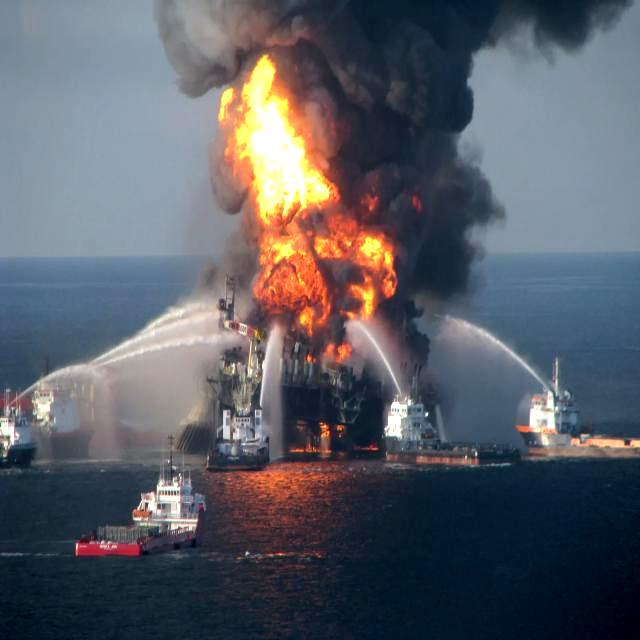fire: (220, 48, 396, 376)
